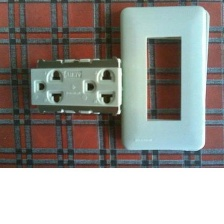three_eye_plug: (27, 54, 124, 118)
